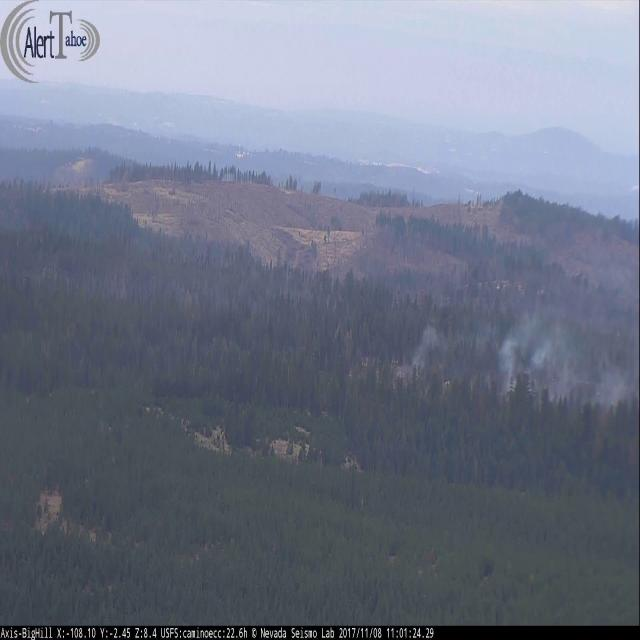smoke: (403, 305, 640, 392), (574, 213, 640, 306)
